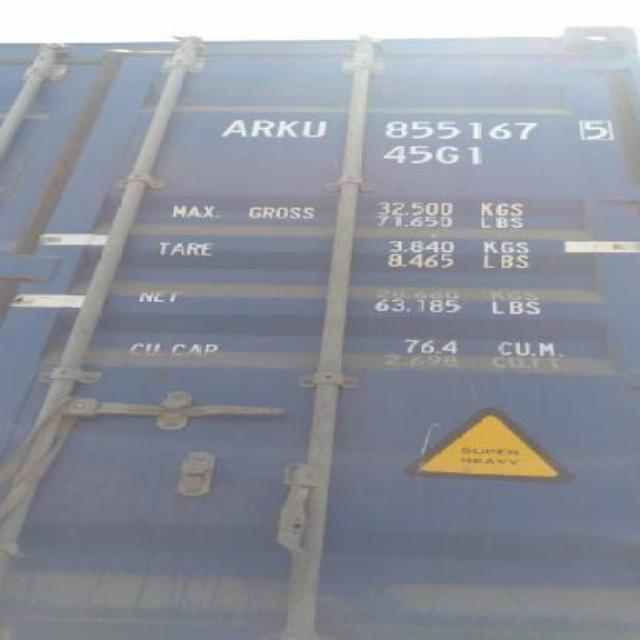1: (466, 119, 486, 143)
5: (434, 118, 462, 142), (582, 120, 610, 142), (408, 120, 434, 140)
6: (490, 118, 514, 142)
7: (512, 121, 538, 141)
8: (384, 120, 410, 140)
A: (224, 118, 246, 138)
K: (278, 118, 300, 140)
R: (250, 118, 276, 138)
U: (302, 120, 328, 140)
